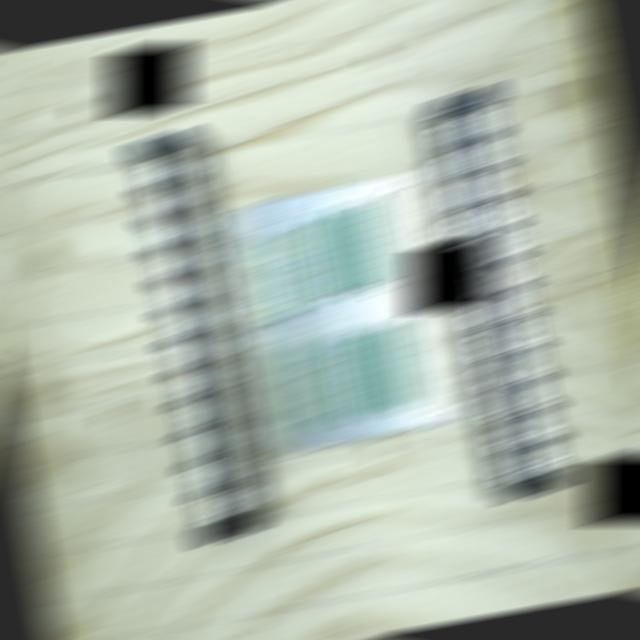Flathead_Block: (126, 129, 263, 542)
Phillips_Block: (431, 85, 571, 499)
Terminal_1: (255, 234, 301, 320), (276, 343, 320, 430)
Terminal_2: (326, 335, 371, 417), (305, 212, 349, 293), (329, 207, 373, 288), (377, 325, 421, 406), (352, 331, 395, 412)
